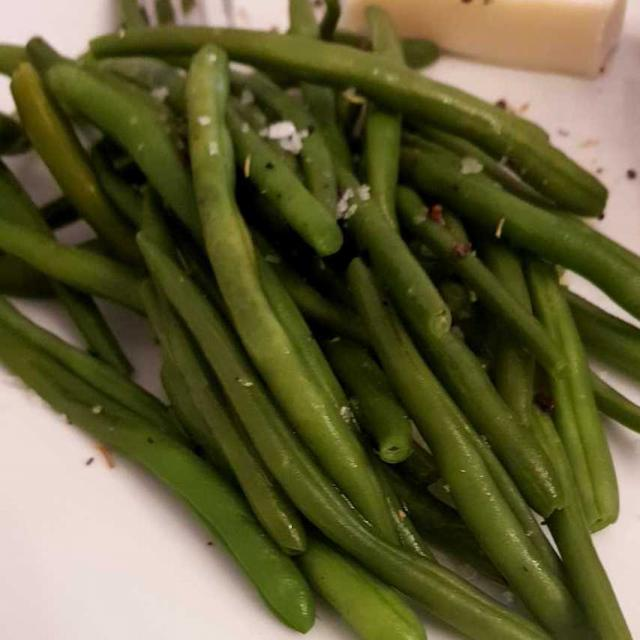french-beans: (15, 22, 618, 626)
